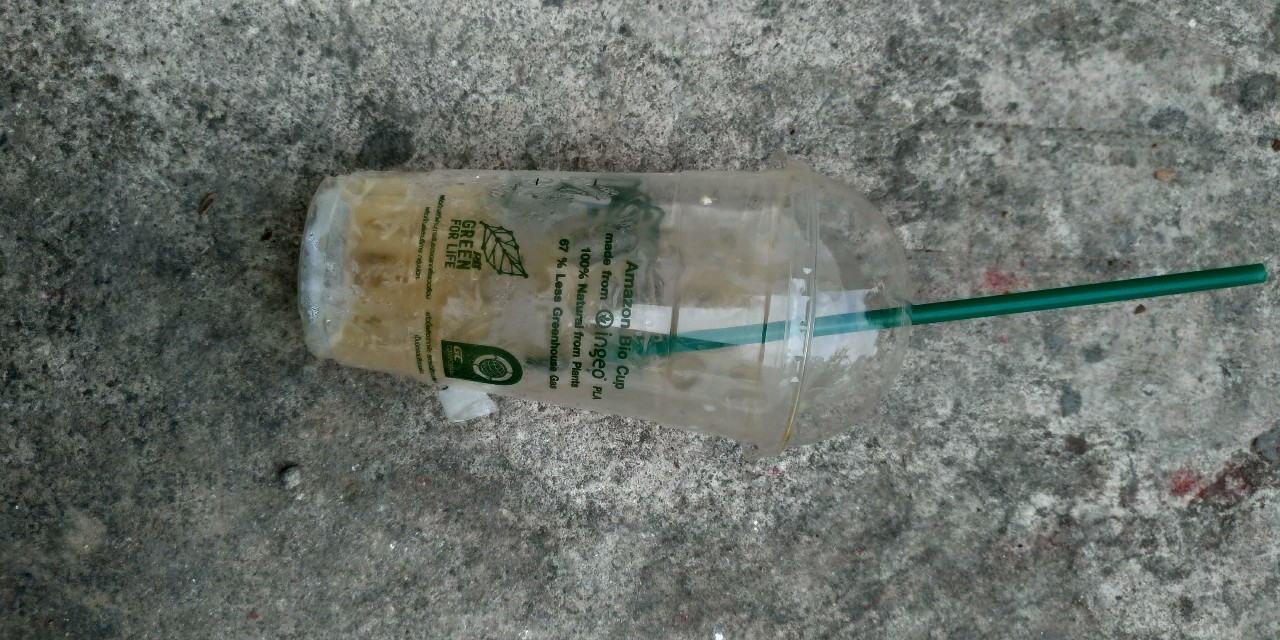PlasticCup: (298, 164, 911, 459)
